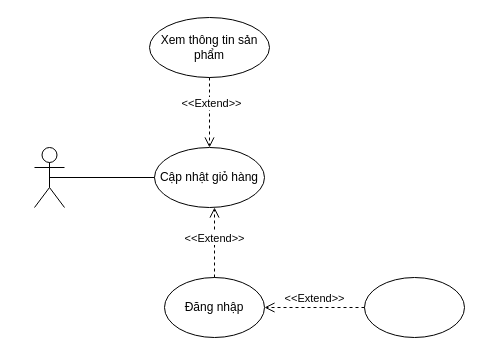
The diagram is 482 pixels wide and 355 high, and some of its shapes have lost their labels. Here are the shapes that lost their labels. From the top down, the centre of each, then its label:
At point (49, 177): "Khách hàng".
At point (414, 307): "Đăng ký".
